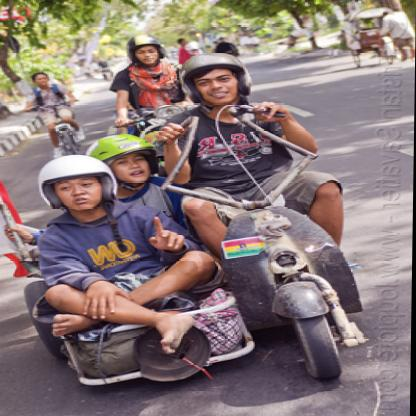With Helmet: (178, 46, 253, 111)
